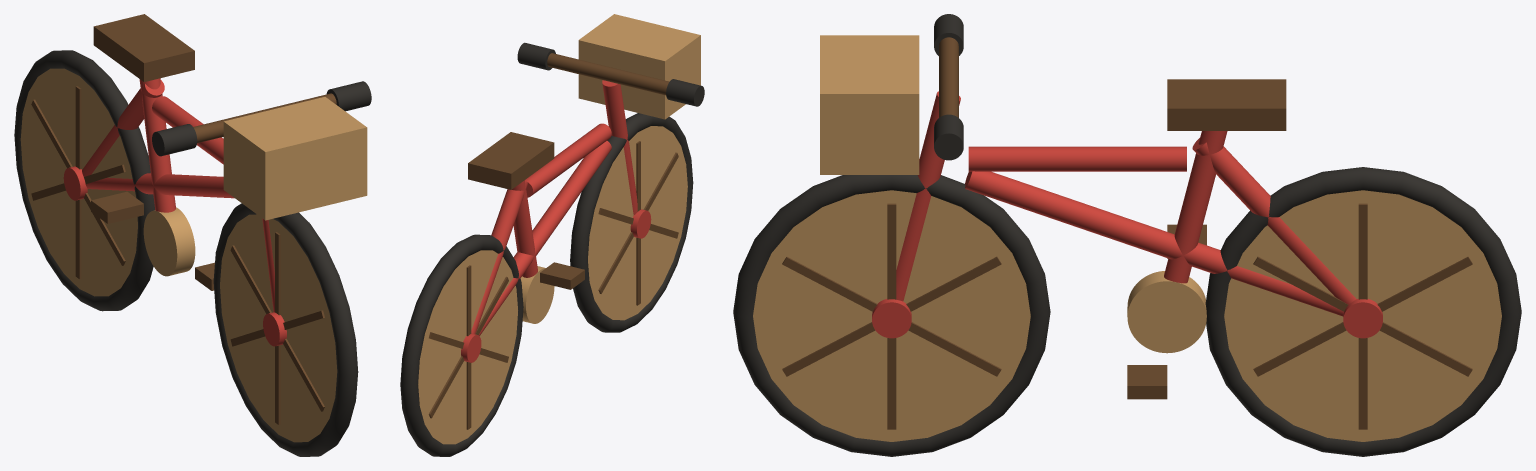
File: X002_cardboard_bicycle.glb
3 views of the same model, side by side, from view 1: azimuth 30°, elevation 25°; view 2: azimuth 150°, elevation 25°; view 3: azimuth 270°, elevation 25° (orthographic). The views are drawn at different scales.
Visible parts, largest first — view 1: _MeshInstance3D_5, Wheel, Basket, _MeshInstance3D_6, Tire, Saddle, Crank, Tube, _MeshInstance3D_13, _MeshInstance3D_12, _MeshInstance3D_11, Pedal (+13 smaller); view 2: _MeshInstance3D_5, Wheel, Basket, Tire, _MeshInstance3D_6, Saddle, Tube, Handle, _MeshInstance3D_11, _MeshInstance3D_12, _MeshInstance3D_14, Crank (+12 smaller); view 3: _MeshInstance3D_5, Wheel, Tire, _MeshInstance3D_6, Basket, Tube, Saddle, _MeshInstance3D_11, Crank, _MeshInstance3D_12, _MeshInstance3D_13, _MeshInstance3D_14 (+12 smaller).
Boxes of the visible parts, x1,y1,x2,y2 form: _MeshInstance3D_5: (220,214,337,442); Wheel: (20,68,137,296); Basket: (223,97,367,220); _MeshInstance3D_6: (213,203,358,456); Tire: (14,50,154,311); Saddle: (93,14,194,81); Crank: (143,207,195,276); Tube: (85,173,234,198); _MeshInstance3D_13: (139,78,175,212); _MeshInstance3D_12: (82,80,164,176); _MeshInstance3D_11: (152,96,223,164); Pedal: (91,191,143,223); _MeshInstance3D_5: (588,126,687,320); Wheel: (418,250,517,444); Basket: (578,14,700,119); Tire: (400,234,523,456); _MeshInstance3D_6: (570,113,693,332); Saddle: (468,132,554,189); Tube: (478,141,611,335); Handle: (547,53,669,95); _MeshInstance3D_11: (525,123,611,197); _MeshInstance3D_12: (471,180,528,334); _MeshInstance3D_14: (602,80,637,215); Crank: (520,266,554,323); _MeshInstance3D_5: (753,190,1030,441); Wheel: (1224,190,1501,441); Tire: (1205,167,1521,456); _MeshInstance3D_6: (733,175,1050,456); Basket: (820,35,919,174); Tube: (965,171,1343,316); Saddle: (1167,79,1286,130); _MeshInstance3D_11: (968,146,1186,171); Crank: (1127,271,1206,353); _MeshInstance3D_12: (1192,138,1356,304); _MeshInstance3D_13: (1164,131,1227,283); _MeshInstance3D_14: (896,91,960,301).
Size of the model in its own units: 0.57 by 0.87 by 1.59.
